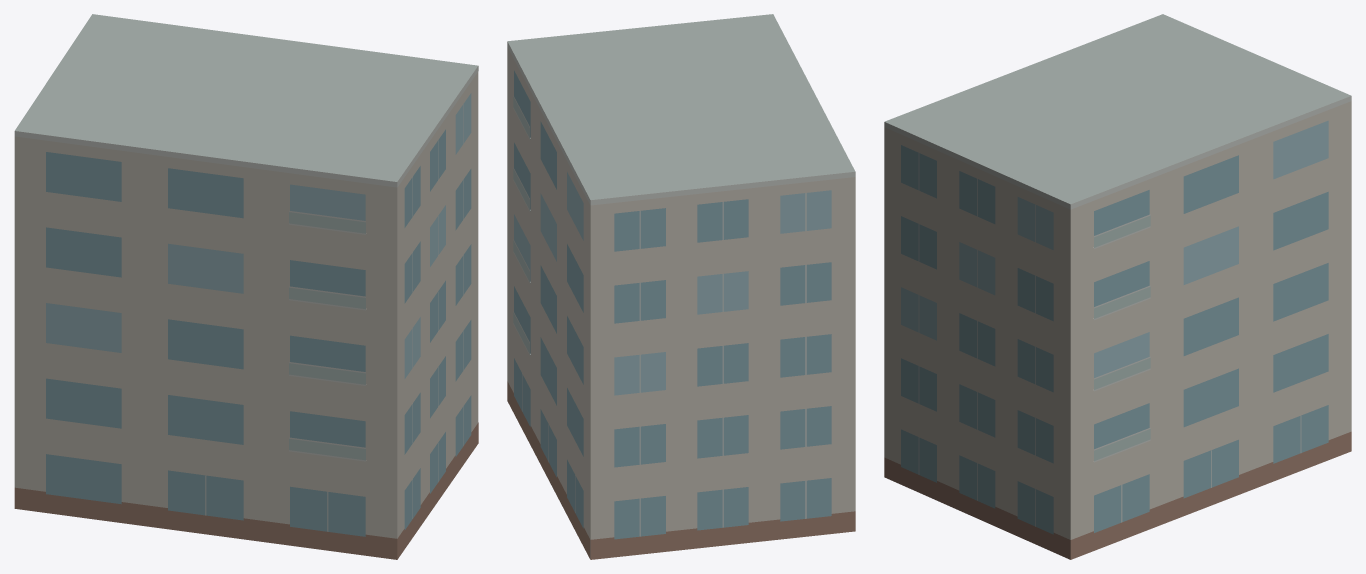
The model's file is survey-upis-32814384.glb.
3 views of the same model, side by side, from view 1: azimuth 30°, elevation 25°; view 2: azimuth 150°, elevation 25°; view 3: azimuth 270°, elevation 25° (orthographic). The views are drawn at different scales.
Parts seen in each view (by area): view 1: survey-upis-32814384.tmp; view 2: survey-upis-32814384.tmp; view 3: survey-upis-32814384.tmp.
Part boxes in pixels (x1,y1,x2,y2): survey-upis-32814384.tmp: (14, 14, 478, 559); survey-upis-32814384.tmp: (507, 14, 855, 559); survey-upis-32814384.tmp: (884, 14, 1351, 559).
Bounding box in the file's own units: 19.08 × 16.6 × 19.79.
